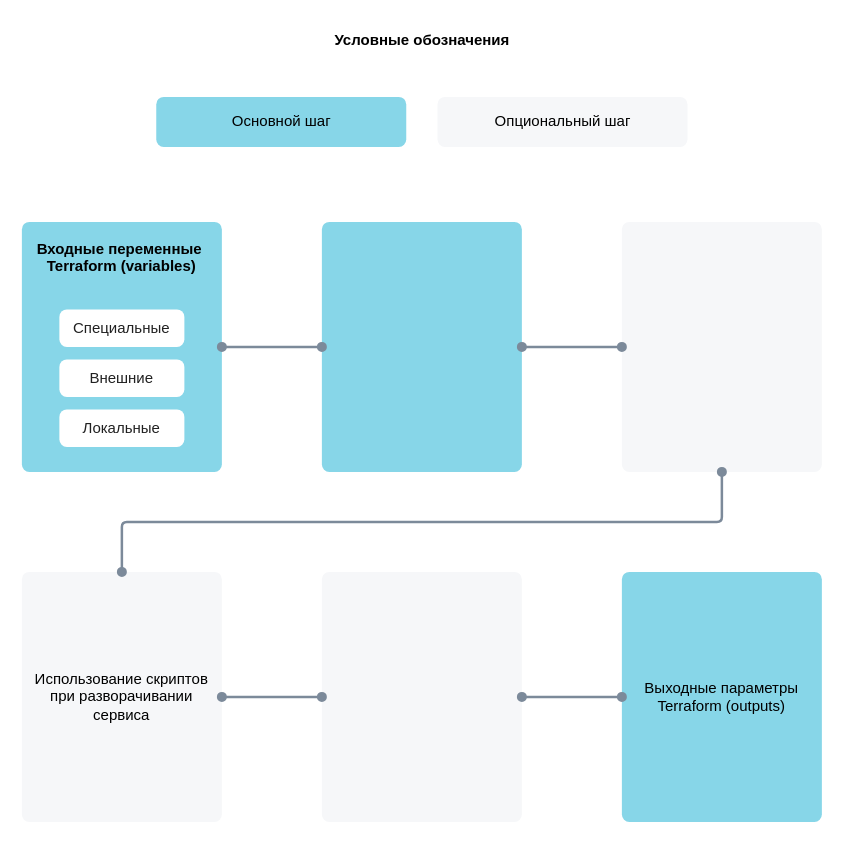
Image size: 843x843. Some labels were removed from this diagram. The shapes that lost their labels are listed below. From the top down, each one's centre as x and y in pixels, then its label:
At point (421, 346): "Описание инфрастуктуры (виртуальная сеть, диск, ВМ)".
At point (721, 346): "Мониторинг и автовосстановление ВМ".
At point (421, 696): "Перезагрузка ВМ при разворачивании сервиса".
